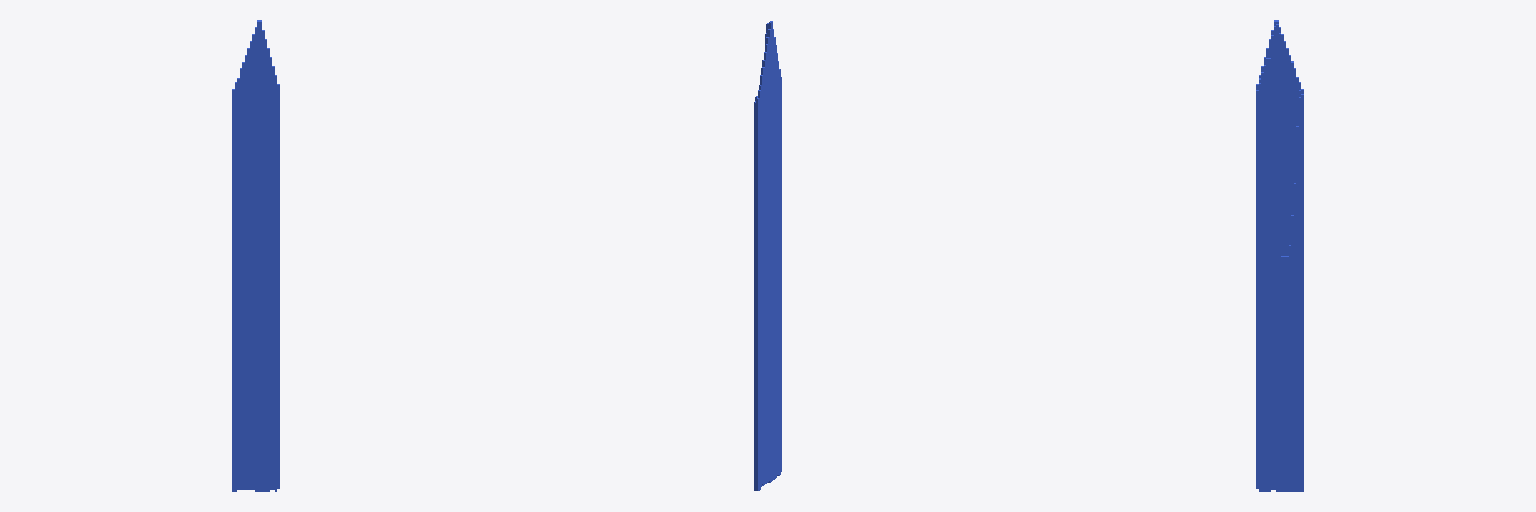
The robot description file, URDF, robot "physxnet_1004_strict":
<?xml version='1.0' encoding='utf-8'?>
<robot name="physxnet_1004_strict">
  <link name="l_world">
    <inertial>
      <origin xyz="0 0 0" rpy="0 0 0" />
      <mass value="0.0100000000" />
      <inertia ixx="0.0000001667" ixy="0.0" ixz="0.0" iyy="0.0000001667" iyz="0.0" izz="0.0000001667" />
    </inertial>
  </link><link name="l_0">
    <inertial>
      <origin xyz="0.0005703926 -0.0007987142 0.0891150116" rpy="0 0 0" />
      <mass value="0.0271642953" />
      <inertia ixx="0.0015411458" ixy="0.0" ixz="0.0" iyy="0.0015287165" iyz="0.0" izz="0.0000124941" />
    </inertial><visual>
      <origin xyz="0 0 0" rpy="0 0 0" />
      <geometry>
        <mesh filename="../rigid_visuals/part_000_visual.obj" scale="1 1 1" />
      </geometry><material name="mat_l_0">
        <color rgba="0.32548 0.48041 0.93131 1.00000" />
      </material>
    </visual><collision>
      <origin xyz="0 0 0" rpy="0 0 0" />
      <geometry>
        <mesh filename="part_000_collision.obj" scale="1 1 1" />
      </geometry>
    </collision>
  </link><joint name="joint_fixed_l_world_l_0" type="fixed">
    <parent link="l_world" />
    <child link="l_0" />
    <origin xyz="0 0 0" rpy="0 0 0" />
  </joint><link name="l_1">
    <inertial>
      <origin xyz="0.0000000000 0.0000000000 -0.4065087804" rpy="0 0 0" />
      <mass value="0.0176219396" />
      <inertia ixx="0.0001030900" ixy="0.0" ixz="0.0" iyy="0.0000524845" iyz="0.0" izz="0.0000528903" />
    </inertial><visual>
      <origin xyz="0 0 0" rpy="0 0 0" />
      <geometry>
        <mesh filename="../rigid_visuals/part_001_visual.obj" scale="1 1 1" />
      </geometry><material name="mat_l_1">
        <color rgba="0.15447 0.35718 0.26453 1.00000" />
      </material>
    </visual><collision>
      <origin xyz="0 0 0" rpy="0 0 0" />
      <geometry>
        <mesh filename="part_001_collision.obj" scale="1 1 1" />
      </geometry>
    </collision>
  </link><joint name="joint_fixed_l_0_l_1" type="fixed">
    <parent link="l_0" />
    <child link="l_1" />
    <origin xyz="0 0 0" rpy="0 0 0" />
  </joint>
</robot>

--- Facts derived from the render (not from the file) ---
Views: 3 orthographic renders of the robot side by side, from view 1: azimuth 90°, elevation 25°; view 2: azimuth 150°, elevation 25°; view 3: azimuth 270°, elevation 25°.
Robot: physxnet_1004_strict — 3 links, 2 joints (2 fixed); root link l_world; default pose: all joints at 0.
Links seen in each view (by area): view 1: l_0; view 2: l_0; view 3: l_0.
Boxes of the visible links, x1,y1,x2,y2 form: l_0: (232, 20, 279, 491); l_0: (754, 21, 781, 490); l_0: (1256, 20, 1303, 491).
Bounding box of the posed robot: 0.008 × 0.076 × 0.824 m (x, y, z).
1 mesh visuals loaded from 2 distinct referenced files (1 OBJ); not drawn: 1 (reference not matched to a file when rendering).
